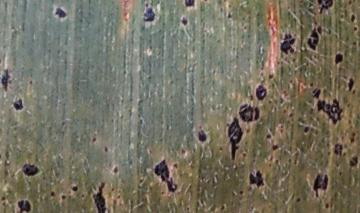tarspot: (150, 158, 178, 195), (314, 98, 345, 123), (227, 117, 241, 163), (309, 170, 331, 197), (237, 101, 263, 123), (276, 30, 297, 56), (92, 179, 107, 213), (246, 169, 266, 189), (15, 195, 35, 213), (19, 161, 40, 178), (139, 5, 158, 23), (307, 27, 320, 51), (1, 65, 11, 93), (10, 95, 26, 112), (194, 127, 210, 144), (253, 83, 268, 101), (316, 1, 334, 16), (51, 6, 68, 20), (332, 142, 344, 159), (332, 52, 345, 67), (346, 153, 359, 168), (346, 76, 356, 94), (308, 87, 321, 100), (178, 15, 190, 27), (58, 191, 70, 203), (262, 130, 274, 141), (348, 130, 357, 144), (321, 201, 332, 212), (300, 126, 313, 135), (182, 1, 198, 8), (70, 183, 80, 194), (270, 142, 280, 153), (350, 23, 360, 34), (102, 143, 110, 156), (294, 193, 302, 206), (48, 188, 57, 199), (348, 12, 357, 23), (110, 166, 121, 175), (265, 72, 275, 81), (236, 188, 246, 197), (90, 134, 98, 145), (317, 25, 325, 36)
